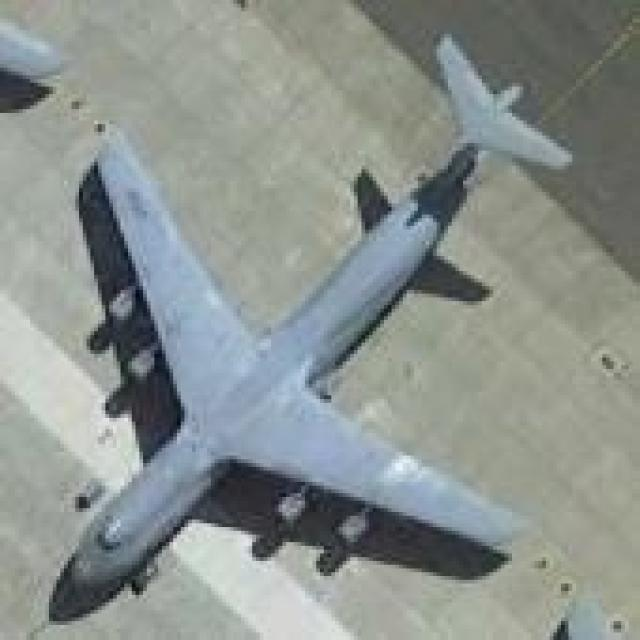C-5_TopDown: (63, 32, 581, 599)
